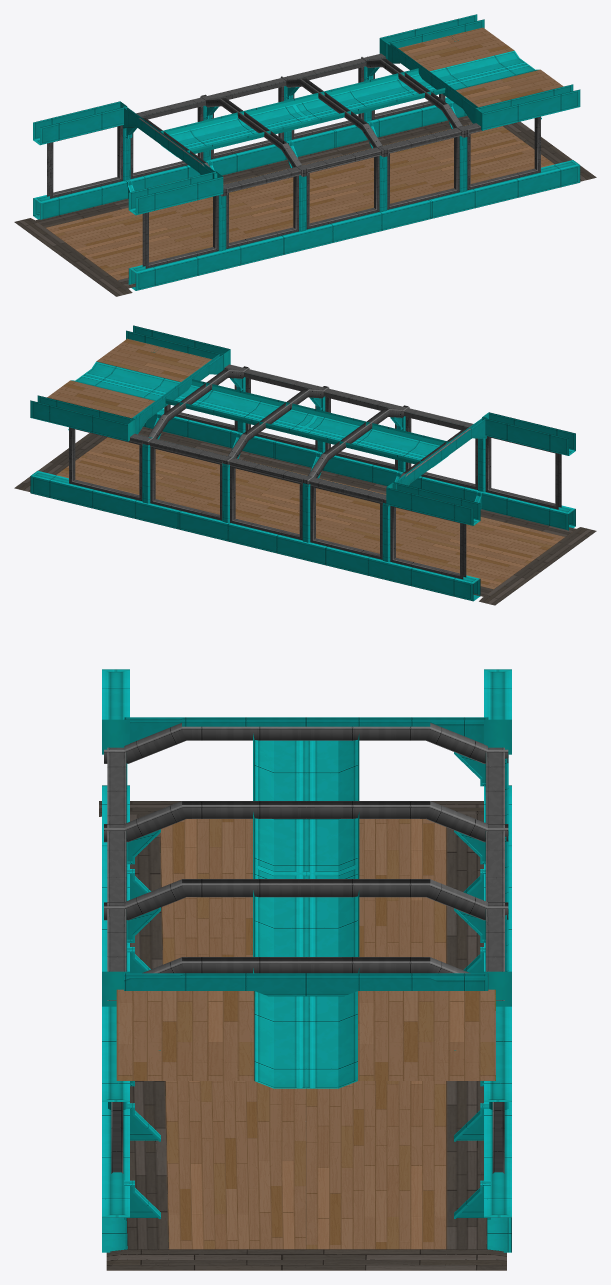
The model's file is Tunnel_Structure_01.fbx.
3 renders of one model, top to bottom at view 1: azimuth 30°, elevation 25°; view 2: azimuth 150°, elevation 25°; view 3: azimuth 270°, elevation 25°, orthographic. The views are drawn at different scales.
Parts seen in each view (by area): view 1: Tunnel_Structure_01; view 2: Tunnel_Structure_01; view 3: Tunnel_Structure_01.
Boxes of the visible parts, x1=… form: Tunnel_Structure_01: x1=14, y1=14, x2=596, y2=296; Tunnel_Structure_01: x1=14, y1=325, x2=596, y2=605; Tunnel_Structure_01: x1=99, y1=669, x2=511, y2=1270.
Size of the model in its own units: 3127 by 579 by 1163.
